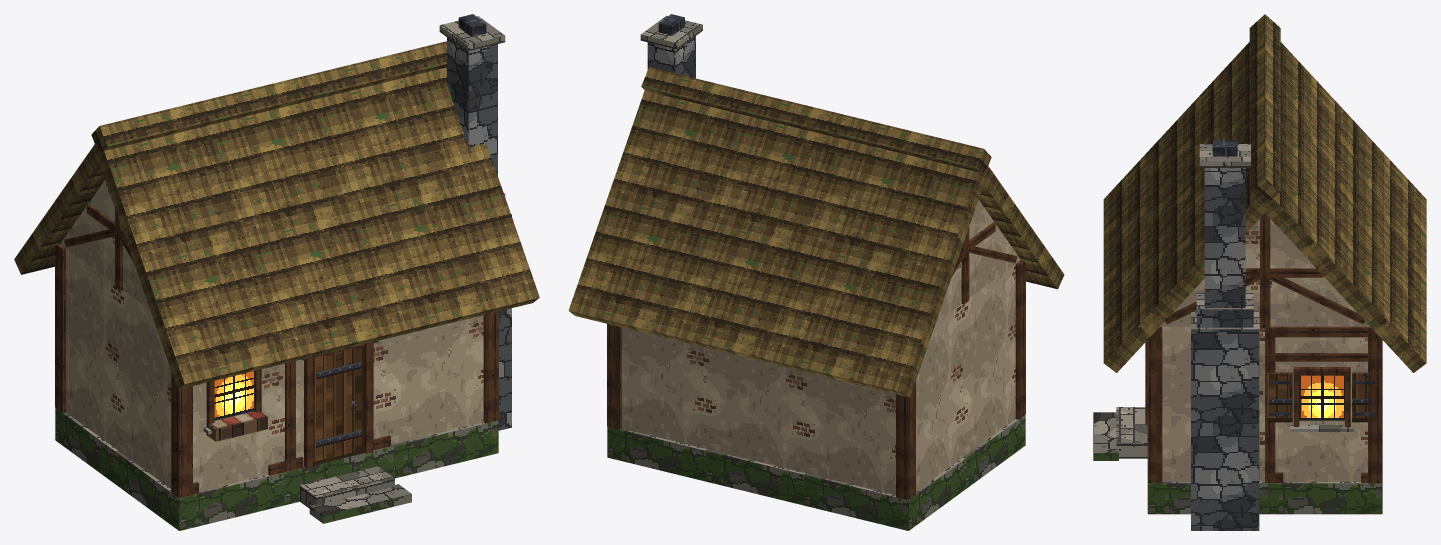
The model's file is MV_Cottage_Thatch_A.glb.
3 views of the same model, side by side, from view 1: azimuth 30°, elevation 25°; view 2: azimuth 150°, elevation 25°; view 3: azimuth 270°, elevation 25° (orthographic). The views are drawn at different scales.
Visible parts, largest first — view 1: MV_Roof_GableThatch_2m_A.MV_Cottage_Thatch_A, MV_Roof_GableThatch_2m_A.MV_Cottage_Thatch_A.001, MV_Roof_GableThatch_2m_A.MV_Cottage_Thatch_A.002, MV_Roof_GableThatchEnd_A.MV_Cottage_Thatch_A, MV_Wall_Plaster_2m_A.MV_Cottage_Thatch_A, MV_Wall_Plaster_2m_A.MV_Cottage_Thatch_A.005, MV_Wall_Plaster_2m_A.MV_Cottage_Thatch_A.006, MV_Chimney_Stone_A.MV_Cottage_Thatch_A, MV_Door_Wood_A.MV_Cottage_Thatch_A, MV_Wall_Timber_2m_B.MV_Cottage_Thatch_A, MV_Wall_Gable_4m_A.MV_Cottage_Thatch_A, MV_Roof_GableThatchEnd_A.MV_Cottage_Thatch_A.001 (+12 smaller); view 2: MV_Roof_GableThatch_2m_A.MV_Cottage_Thatch_A, MV_Roof_GableThatch_2m_A.MV_Cottage_Thatch_A.001, MV_Roof_GableThatch_2m_A.MV_Cottage_Thatch_A.002, MV_Roof_GableThatchEnd_A.MV_Cottage_Thatch_A, MV_Wall_Plaster_2m_A.MV_Cottage_Thatch_A.003, MV_Wall_Plaster_2m_A.MV_Cottage_Thatch_A.002, MV_Wall_Plaster_2m_A.MV_Cottage_Thatch_A.004, MV_Wall_Plaster_2m_A.MV_Cottage_Thatch_A.006, MV_Wall_Plaster_2m_A.MV_Cottage_Thatch_A.005, MV_Roof_GableThatchEnd_A.MV_Cottage_Thatch_A.001, MV_Wall_Gable_4m_A.MV_Cottage_Thatch_A, MV_Foundation_Stone_2m_A.MV_Cottage_Thatch_A.005 (+8 smaller); view 3: MV_Chimney_Stone_A.MV_Cottage_Thatch_A, MV_Roof_GableThatch_2m_A.MV_Cottage_Thatch_A, MV_Roof_GableThatch_2m_A.MV_Cottage_Thatch_A.001, MV_Roof_GableThatch_2m_A.MV_Cottage_Thatch_A.002, MV_Wall_Timber_2m_B.MV_Cottage_Thatch_A.002, MV_Roof_GableThatchEnd_A.MV_Cottage_Thatch_A.001, MV_Wall_Gable_4m_A.MV_Cottage_Thatch_A.001, MV_Window_Shutter_A.MV_Cottage_Thatch_A, MV_Wall_Plaster_2m_A.MV_Cottage_Thatch_A.001, MV_Foundation_Stone_2m_A.MV_Cottage_Thatch_A.009, MV_Roof_GableThatchEnd_A.MV_Cottage_Thatch_A, MV_Foundation_DoorStep_A.MV_Cottage_Thatch_A (+4 smaller).
Part boxes in pixels (x1,y1,x2,y2): MV_Roof_GableThatch_2m_A.MV_Cottage_Thatch_A: [42, 95, 309, 384]; MV_Roof_GableThatch_2m_A.MV_Cottage_Thatch_A.001: [225, 70, 414, 358]; MV_Roof_GableThatch_2m_A.MV_Cottage_Thatch_A.002: [329, 44, 518, 333]; MV_Roof_GableThatchEnd_A.MV_Cottage_Thatch_A: [14, 121, 205, 389]; MV_Wall_Plaster_2m_A.MV_Cottage_Thatch_A: [389, 315, 483, 444]; MV_Wall_Plaster_2m_A.MV_Cottage_Thatch_A.005: [66, 250, 120, 451]; MV_Wall_Plaster_2m_A.MV_Cottage_Thatch_A.006: [120, 290, 193, 488]; MV_Chimney_Stone_A.MV_Cottage_Thatch_A: [439, 14, 511, 430]; MV_Door_Wood_A.MV_Cottage_Thatch_A: [302, 341, 378, 468]; MV_Wall_Timber_2m_B.MV_Cottage_Thatch_A: [193, 363, 286, 494]; MV_Wall_Gable_4m_A.MV_Cottage_Thatch_A: [60, 180, 149, 309]; MV_Roof_GableThatchEnd_A.MV_Cottage_Thatch_A.001: [433, 41, 539, 307]; MV_Roof_GableThatch_2m_A.MV_Cottage_Thatch_A: [785, 120, 1037, 392]; MV_Roof_GableThatch_2m_A.MV_Cottage_Thatch_A.001: [687, 96, 865, 368]; MV_Roof_GableThatch_2m_A.MV_Cottage_Thatch_A.002: [588, 72, 766, 344]; MV_Roof_GableThatchEnd_A.MV_Cottage_Thatch_A: [884, 144, 1064, 397]; MV_Wall_Plaster_2m_A.MV_Cottage_Thatch_A.003: [710, 349, 808, 473]; MV_Wall_Plaster_2m_A.MV_Cottage_Thatch_A.002: [624, 328, 710, 449]; MV_Wall_Plaster_2m_A.MV_Cottage_Thatch_A.004: [809, 373, 895, 494]; MV_Wall_Plaster_2m_A.MV_Cottage_Thatch_A.006: [964, 264, 1015, 456]; MV_Wall_Plaster_2m_A.MV_Cottage_Thatch_A.005: [895, 304, 964, 495]; MV_Roof_GableThatchEnd_A.MV_Cottage_Thatch_A.001: [568, 67, 668, 320]; MV_Wall_Gable_4m_A.MV_Cottage_Thatch_A: [936, 199, 1020, 321]; MV_Foundation_Stone_2m_A.MV_Cottage_Thatch_A.005: [804, 473, 917, 530]; MV_Chimney_Stone_A.MV_Cottage_Thatch_A: [1191, 140, 1259, 530]; MV_Roof_GableThatch_2m_A.MV_Cottage_Thatch_A: [1103, 24, 1426, 256]; MV_Roof_GableThatch_2m_A.MV_Cottage_Thatch_A.001: [1103, 72, 1426, 304]; MV_Roof_GableThatch_2m_A.MV_Cottage_Thatch_A.002: [1103, 120, 1426, 353]; MV_Wall_Timber_2m_B.MV_Cottage_Thatch_A.002: [1265, 326, 1370, 482]; MV_Roof_GableThatchEnd_A.MV_Cottage_Thatch_A.001: [1103, 168, 1426, 372]; MV_Wall_Gable_4m_A.MV_Cottage_Thatch_A.001: [1160, 213, 1369, 327]; MV_Window_Shutter_A.MV_Cottage_Thatch_A: [1267, 367, 1376, 431]; MV_Wall_Plaster_2m_A.MV_Cottage_Thatch_A.001: [1162, 326, 1264, 481]; MV_Foundation_Stone_2m_A.MV_Cottage_Thatch_A.009: [1262, 482, 1381, 514]; MV_Roof_GableThatchEnd_A.MV_Cottage_Thatch_A: [1103, 14, 1426, 208]; MV_Foundation_DoorStep_A.MV_Cottage_Thatch_A: [1093, 407, 1147, 460].
Size of the model in its own units: 7.15 by 7.3 by 5.84.
Materials: 11 (11 with a texture image).
